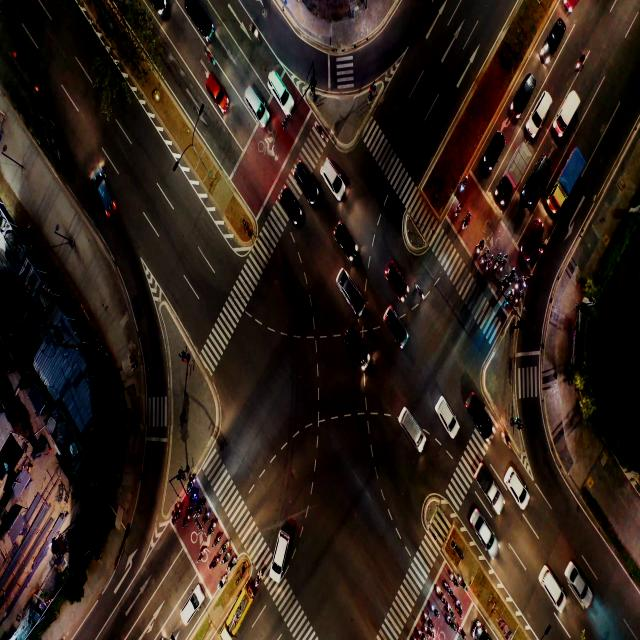bus: (232, 595, 249, 623)
car: (88, 162, 120, 222), (339, 273, 362, 312), (350, 327, 369, 373), (476, 510, 496, 550), (245, 87, 268, 121), (272, 72, 290, 113), (190, 6, 212, 39), (542, 568, 564, 599), (386, 304, 404, 341), (405, 414, 425, 447), (271, 531, 286, 573), (507, 472, 528, 502), (282, 187, 300, 221), (386, 266, 408, 293), (206, 78, 226, 107), (572, 566, 587, 604), (335, 222, 353, 252), (440, 399, 456, 432), (297, 164, 315, 192), (547, 19, 563, 50), (483, 134, 502, 160), (472, 400, 489, 428), (325, 165, 344, 190), (530, 165, 547, 192), (187, 584, 200, 618), (523, 224, 535, 251), (515, 79, 529, 101), (534, 98, 546, 122)
motorcycle: (462, 211, 470, 231), (502, 431, 511, 447), (424, 611, 434, 625), (315, 121, 324, 136), (454, 202, 462, 218), (456, 598, 463, 616), (182, 512, 192, 524), (206, 49, 214, 63), (477, 238, 485, 252), (250, 27, 259, 39), (449, 573, 458, 585), (215, 530, 222, 545), (432, 602, 439, 617), (227, 559, 236, 570), (220, 574, 227, 588), (540, 239, 546, 255), (495, 252, 501, 268), (460, 576, 466, 592), (460, 624, 466, 640), (426, 626, 434, 638), (417, 284, 423, 299), (503, 252, 508, 270), (415, 626, 423, 637), (195, 504, 202, 516), (198, 546, 204, 560), (256, 572, 262, 586), (516, 291, 522, 305), (507, 291, 513, 304), (190, 491, 197, 502), (438, 586, 443, 601), (174, 508, 180, 520), (188, 476, 194, 488), (461, 178, 467, 190), (518, 274, 523, 288), (448, 602, 453, 616), (450, 617, 455, 631), (446, 583, 452, 594), (488, 254, 492, 270), (483, 250, 488, 262), (501, 277, 506, 289), (526, 271, 530, 286), (510, 268, 514, 282), (211, 557, 216, 568), (223, 552, 227, 564), (204, 512, 209, 520), (210, 521, 214, 531), (222, 542, 226, 551)
truck: (556, 158, 579, 197), (478, 467, 497, 501), (508, 149, 525, 182), (560, 92, 578, 119)
